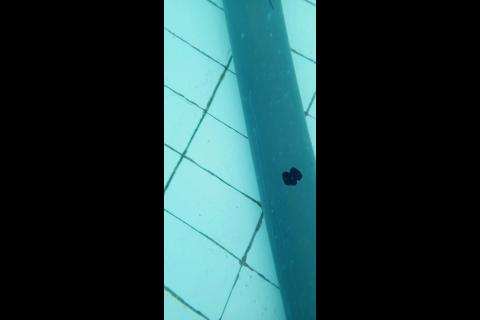kebocoran: (281, 165, 302, 187)
